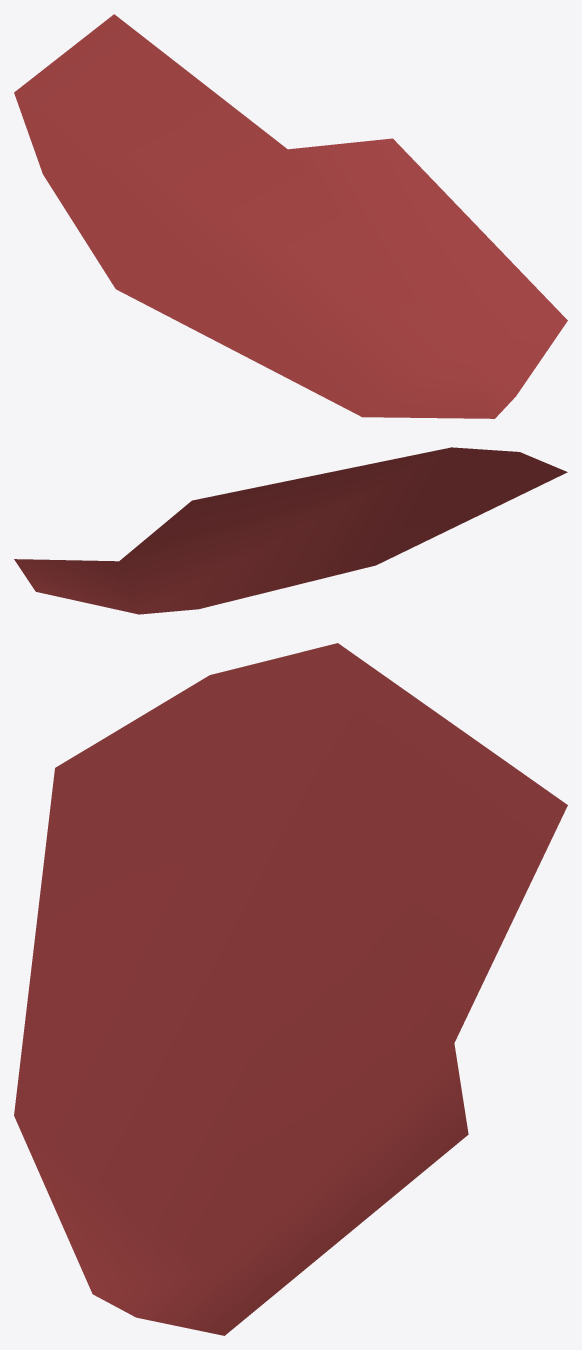
File: flexor-digitorum-longus-e2l.glb
3 views of the same model, one above another, from view 1: azimuth 30°, elevation 25°; view 2: azimuth 150°, elevation 25°; view 3: azimuth 270°, elevation 25° (orthographic). The views are drawn at different scales.
Parts seen in each view (by area): view 1: Flexor digitorum longus.e2l; view 2: Flexor digitorum longus.e2l; view 3: Flexor digitorum longus.e2l.
Part boxes in pixels (box(x1,y1,x2,y2)): Flexor digitorum longus.e2l: box(14, 14, 567, 418); Flexor digitorum longus.e2l: box(14, 447, 567, 614); Flexor digitorum longus.e2l: box(14, 643, 567, 1335).
Size of the model in its own units: 0.00265 by 0.00165 by 0.00196.
